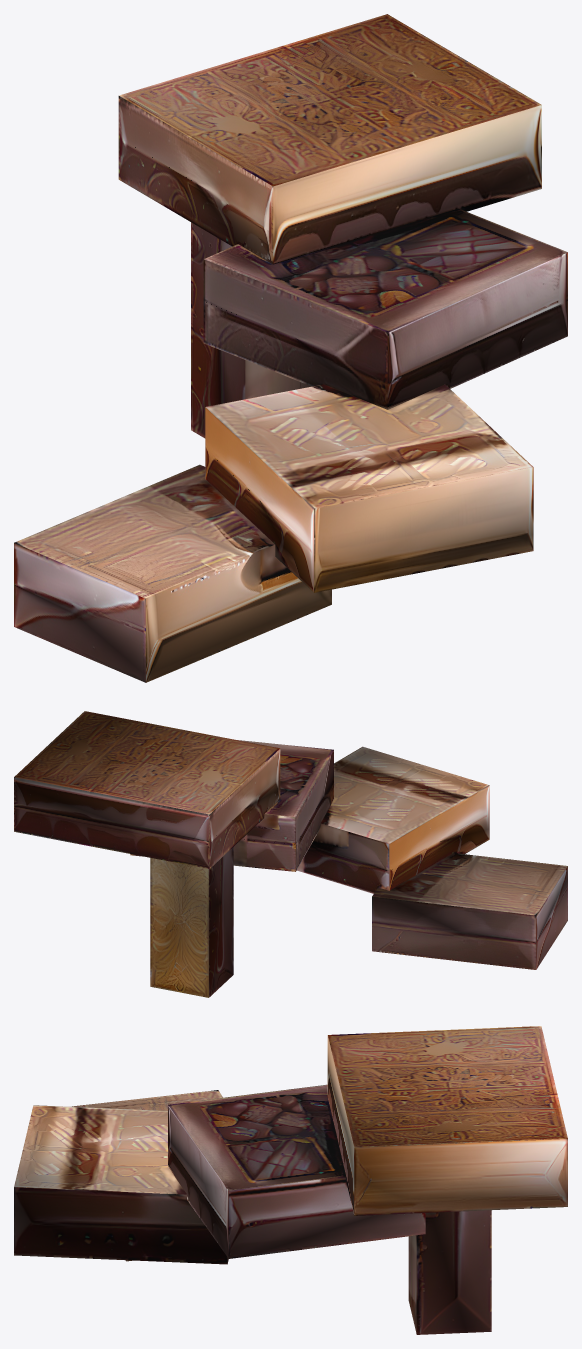
File: boxOfChoc1.glb
3 renders of one model, top to bottom at view 1: azimuth 30°, elevation 25°; view 2: azimuth 150°, elevation 25°; view 3: azimuth 270°, elevation 25°, orthographic. The views are drawn at different scales.
Size of the model in its own units: 5.98 by 2.97 by 5.78.
1 material, 1 textured.
